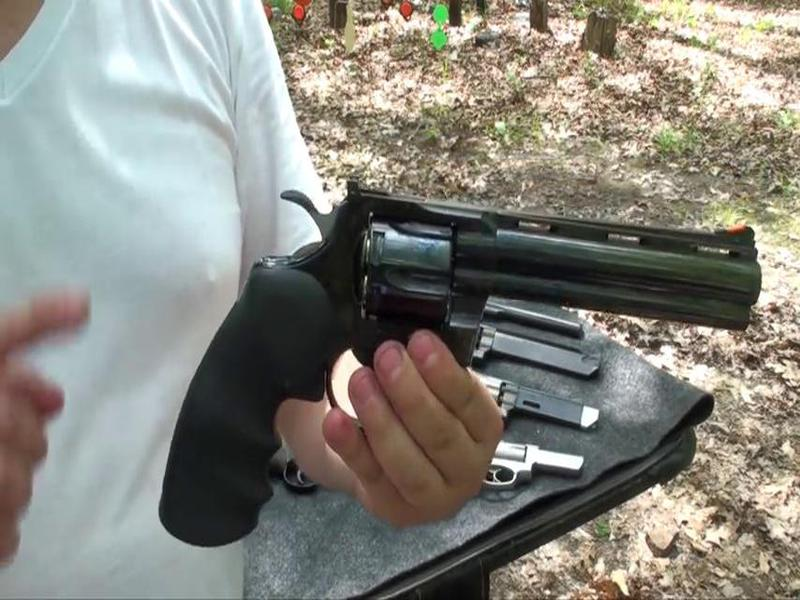Revolver: (177, 152, 768, 522)
